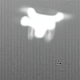plane: (16, 6, 74, 44)
